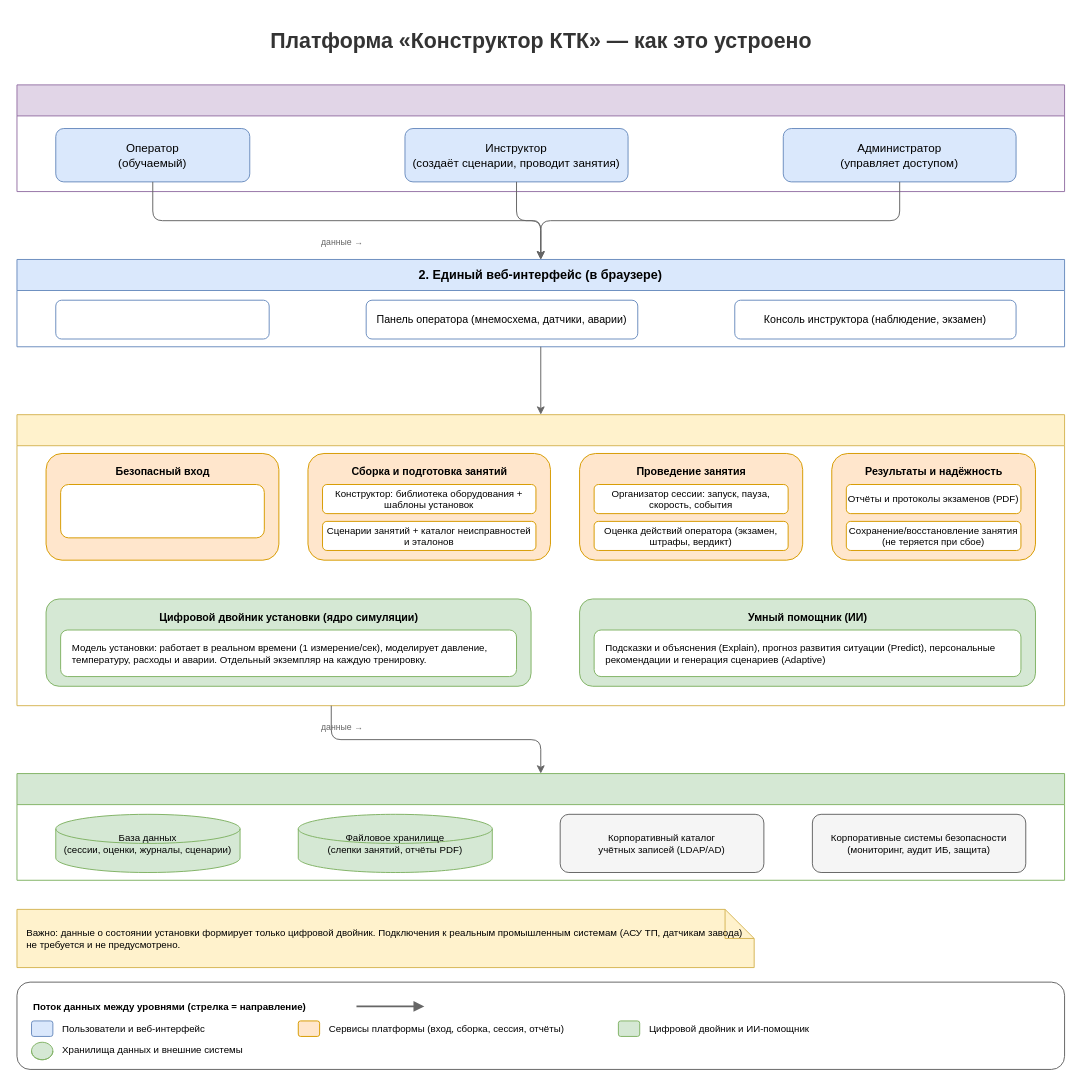
Image size: 1082x1086. Some labels were removed from this diagram. The shapes that lost their labels are listed below. From the top down, each one's box as (x1, y1, x2, y2) in pixels, then its label:
(16, 84, 1065, 192): 1. Кто пользуется системой
(55, 299, 269, 339): Визуальный конструктор установок
(60, 484, 264, 538): Вход по корпоративной учётной записи (LDAP) + подтверждение (2FA)
(16, 414, 1065, 706): 3. Платформа (сервисы приложения — «мозг» системы)
(16, 773, 1065, 880): 4. Хранилища данных и внешние системы
(16, 981, 1065, 1069): Легенда
